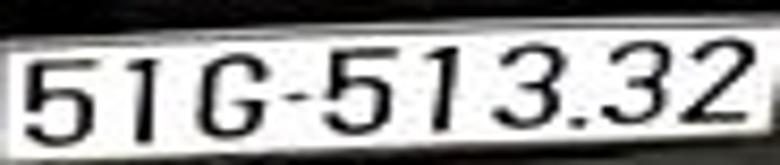-: (282, 88, 308, 103)
.: (566, 117, 588, 131)
1: (126, 57, 158, 146), (429, 44, 458, 132)
2: (683, 39, 752, 124)
3: (496, 44, 562, 130), (604, 40, 669, 126)
5: (25, 58, 96, 147), (329, 47, 397, 134)
G: (198, 53, 264, 138)
